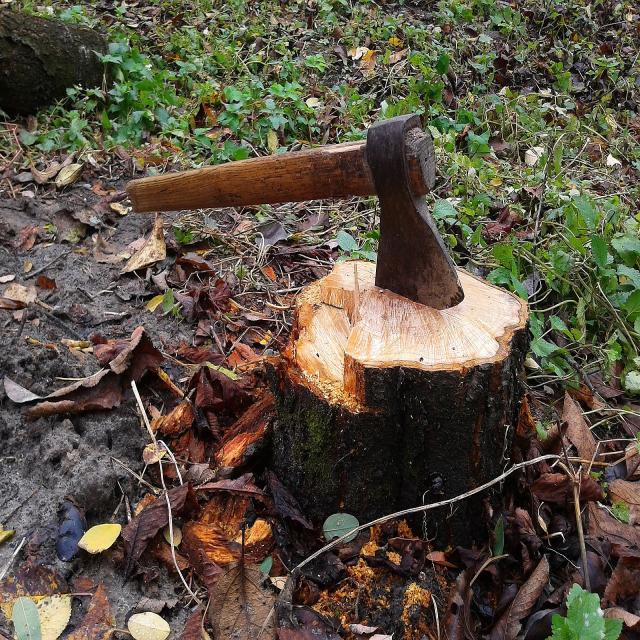Axe: (128, 115, 464, 309)
